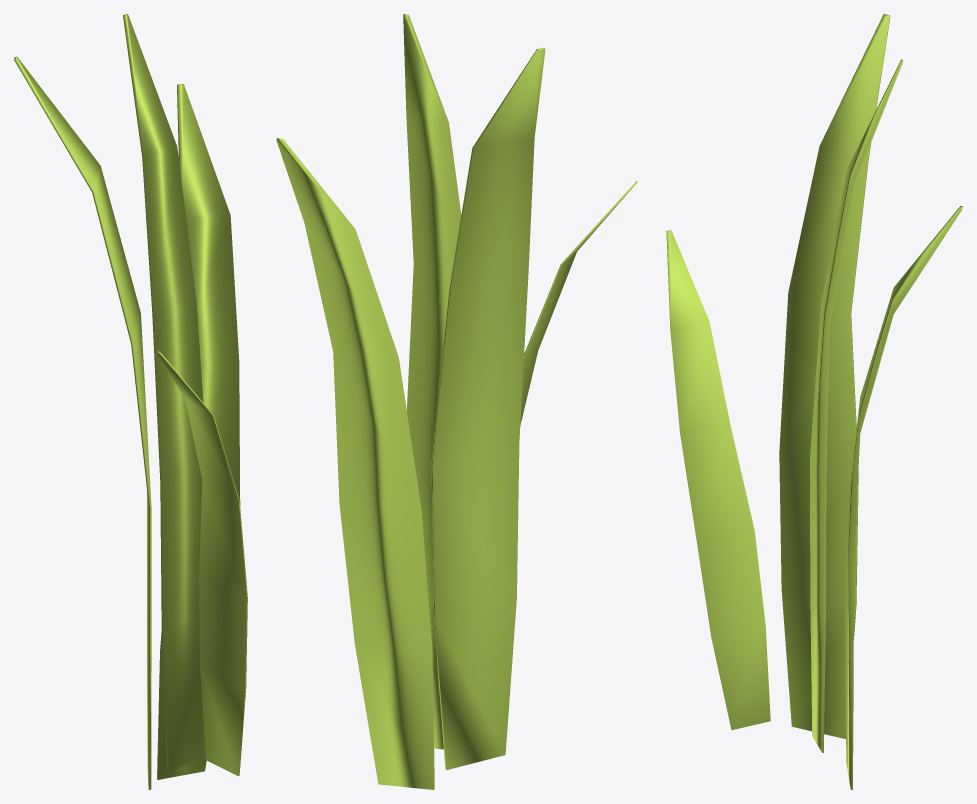
The model's file is grass.fbx.
3 views of the same model, side by side, from view 1: azimuth 30°, elevation 25°; view 2: azimuth 150°, elevation 25°; view 3: azimuth 270°, elevation 25° (orthographic). The views are drawn at different scales.
Visible parts, largest first — view 1: Plane.007; view 2: Plane.007; view 3: Plane.007.
Part boxes in pixels (x1,y1,x2,y2): Plane.007: [14, 14, 247, 789]; Plane.007: [276, 14, 637, 789]; Plane.007: [666, 14, 962, 789].
Size of the model in its own units: 128 by 415 by 158.
